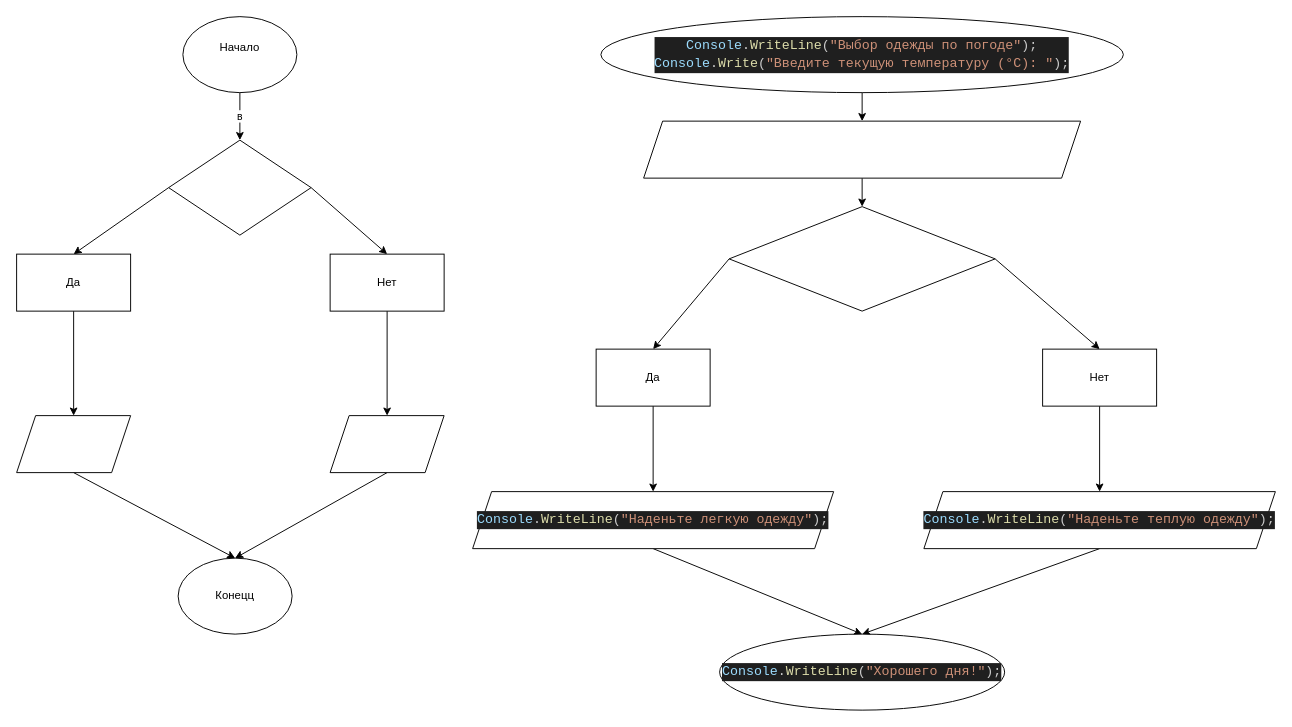
Image size: 1292x727. Some labels were removed from this diagram. Here are the shapes that lost their labels. From the top down, the box of each, then its label:
(643, 120, 1081, 178): int temperature = Convert . ToInt32 ( Console . ReadLine ());
(168, 139, 311, 235): Температура >= 20 °C
(728, 206, 995, 311): if ( temperature >= 20 )
(16, 415, 131, 473): Легкая одежда
(329, 415, 444, 473): Теплая одежда
